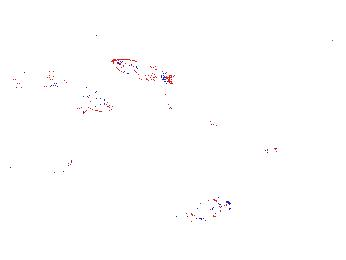X-ray fish: (178, 194, 233, 228), (36, 144, 78, 172)
glassfish: (155, 93, 227, 145), (10, 66, 69, 109)
red belly glassfish: (265, 138, 289, 155), (328, 26, 339, 44)
redtail glassfish: (44, 75, 116, 114), (110, 57, 179, 88)
